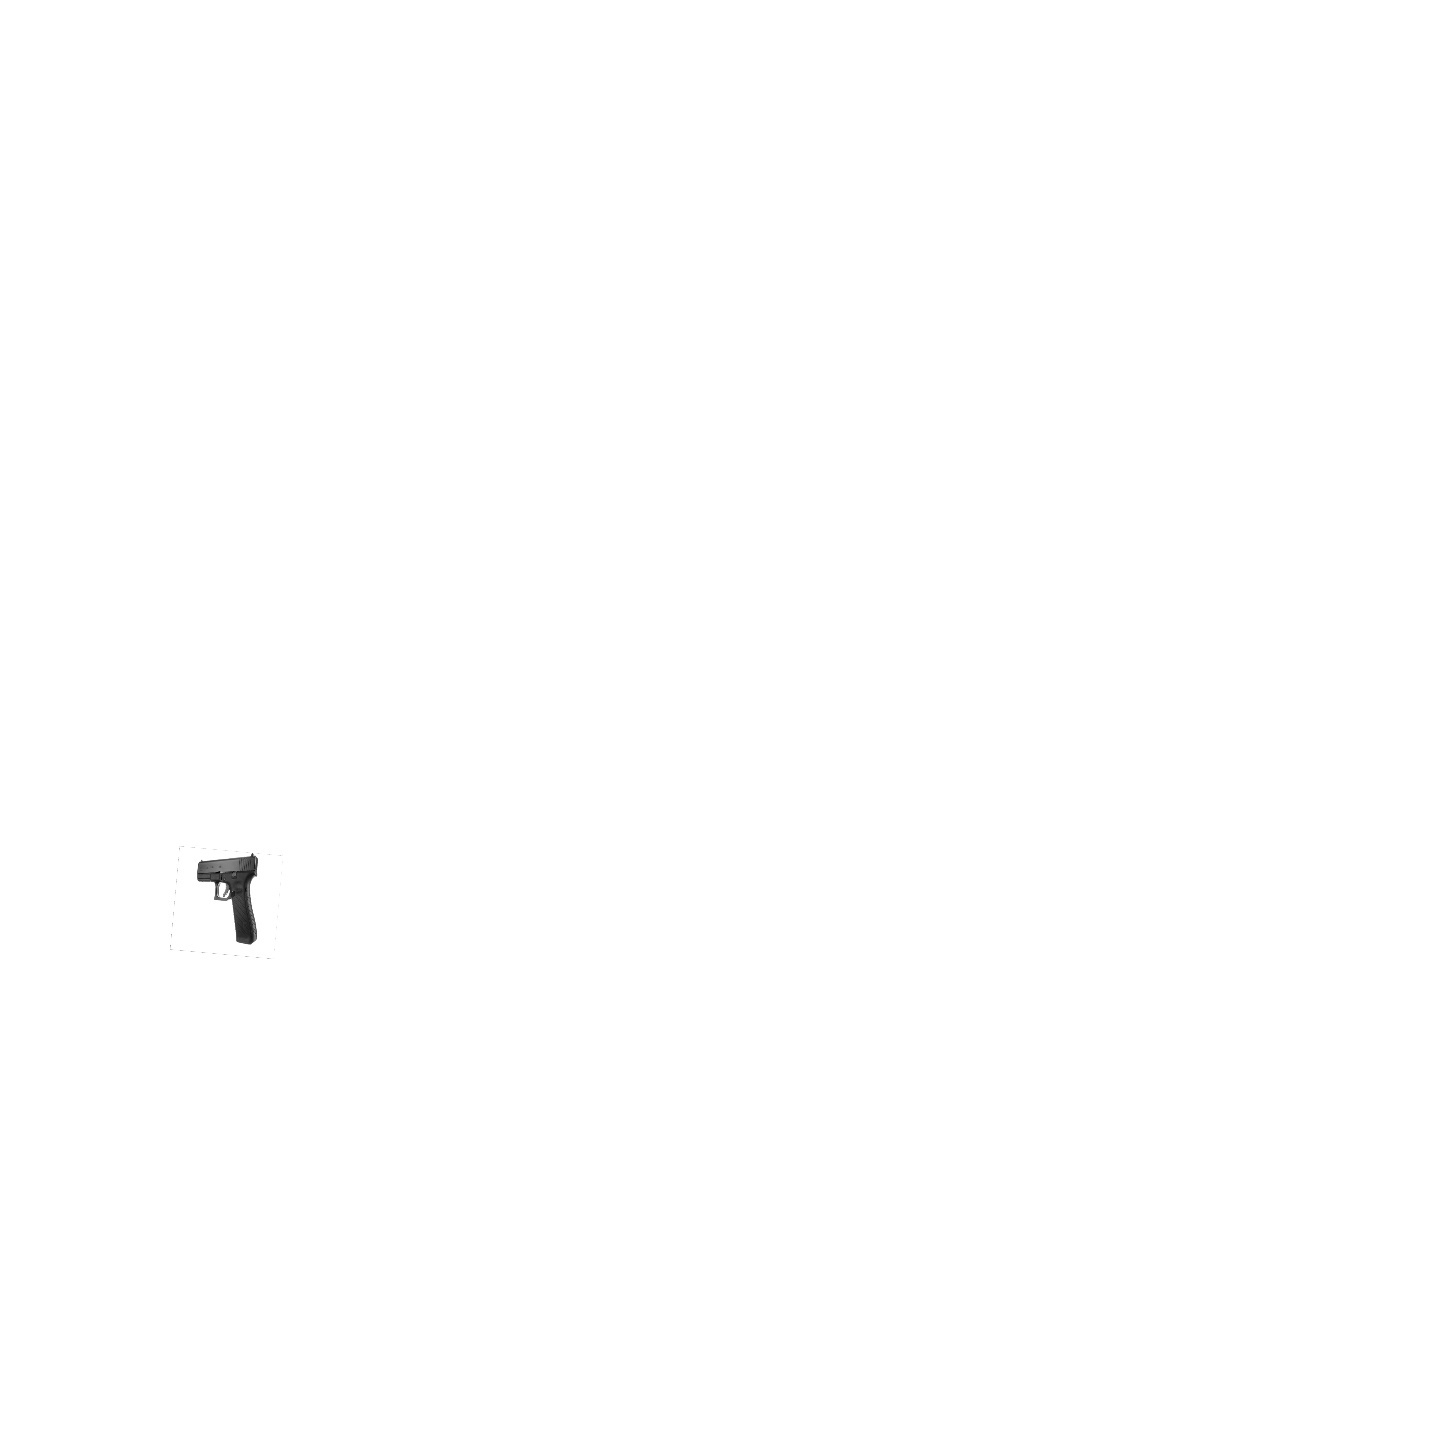gun: (194, 855, 265, 945)
